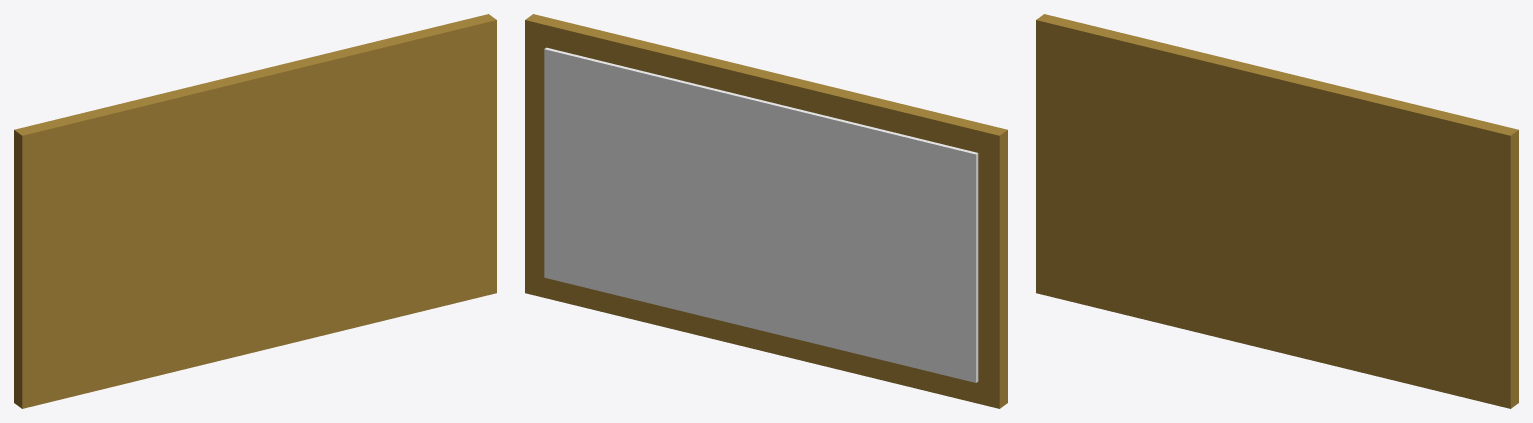
File: painting.obj
3 renders of one model, left to right at view 1: azimuth 30°, elevation 25°; view 2: azimuth 150°, elevation 25°; view 3: azimuth 330°, elevation 25°, orthographic.
Parts seen in each view (by area): view 1: painting_0; view 2: painting_1, painting_0; view 3: painting_0.
Boxes of the visible parts, <box> form: painting_0: <box>14,14,496,408</box>; painting_1: <box>544,47,978,382</box>; painting_0: <box>525,14,1007,408</box>; painting_0: <box>1036,14,1518,408</box>.
Size of the model in its own units: 1 by 0.55 by 0.038.
